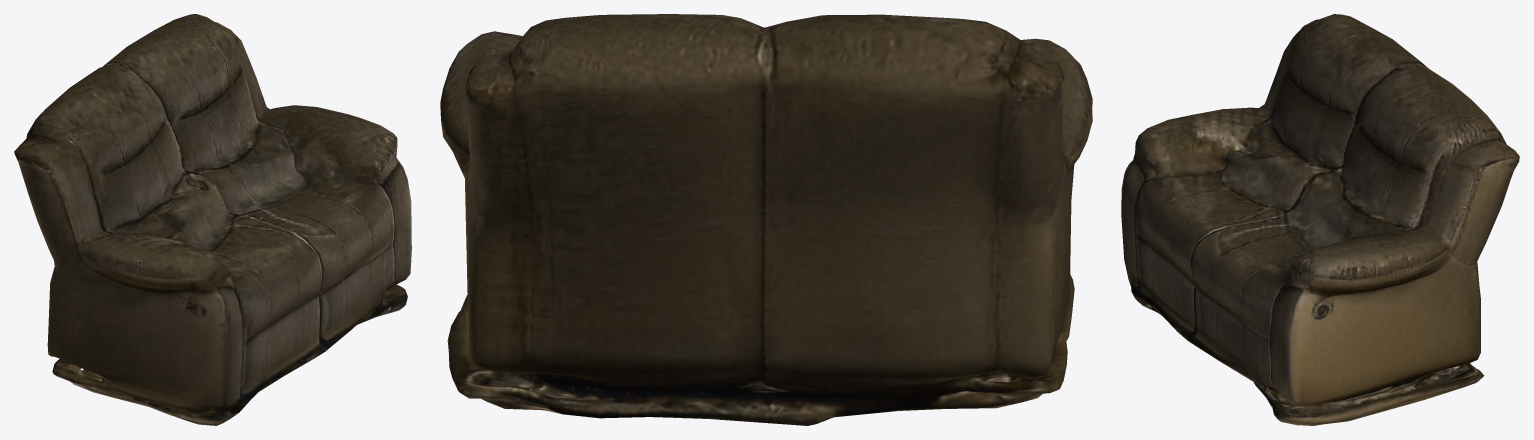
The picture shows the model from 3 angles, left to right: view 1: azimuth 30°, elevation 25°; view 2: azimuth 150°, elevation 25°; view 3: azimuth 270°, elevation 25°; orthographic projection. The views are drawn at different scales.
Parts seen in each view (by area): view 1: world; view 2: world; view 3: world.
Part boxes in pixels (x1,y1,x2,y2): world: [14, 14, 411, 425]; world: [440, 14, 1092, 425]; world: [1121, 14, 1519, 425].
Bounding box in the file's own units: 1.68 × 1.13 × 1.53.
Materials: 1 (1 with a texture image).
